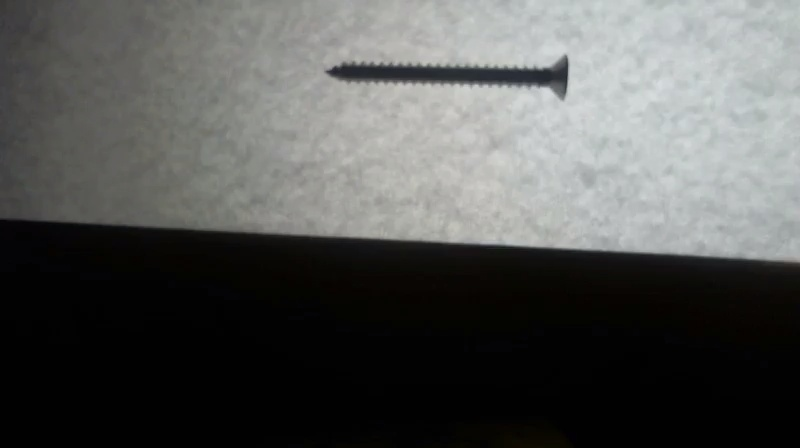S002: (321, 46, 573, 103)
